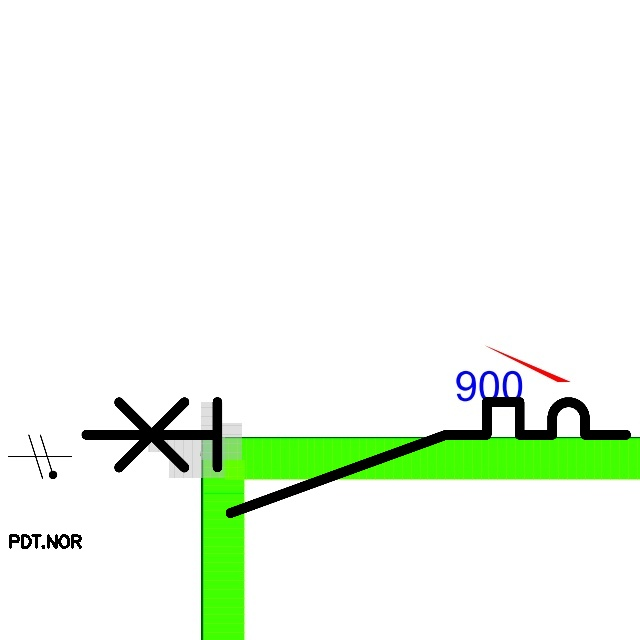interruptor_termomagnetico: (72, 388, 640, 527)
